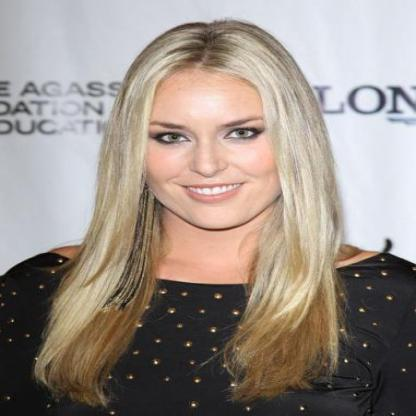long-hair: (62, 232, 355, 272)
